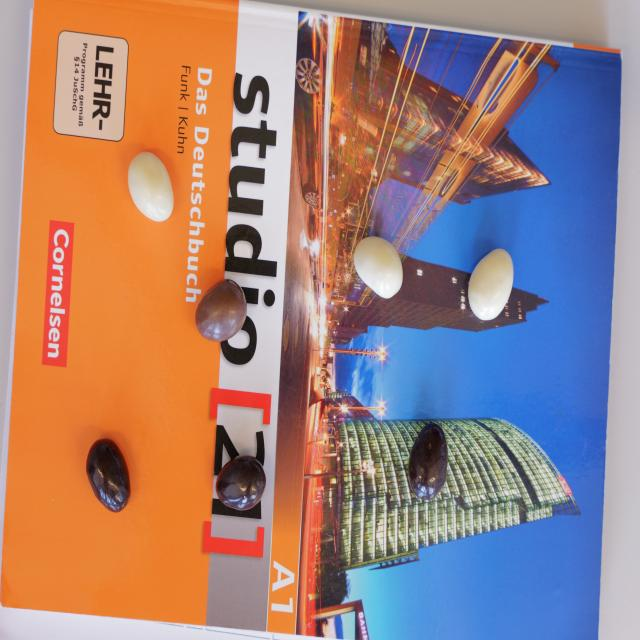Jelly_Black: (85, 438, 132, 513), (408, 422, 448, 502), (215, 456, 266, 510)
Jelly_Milk: (194, 279, 247, 342)
Jelly_White: (352, 234, 405, 299), (467, 248, 514, 321), (129, 150, 173, 222)
